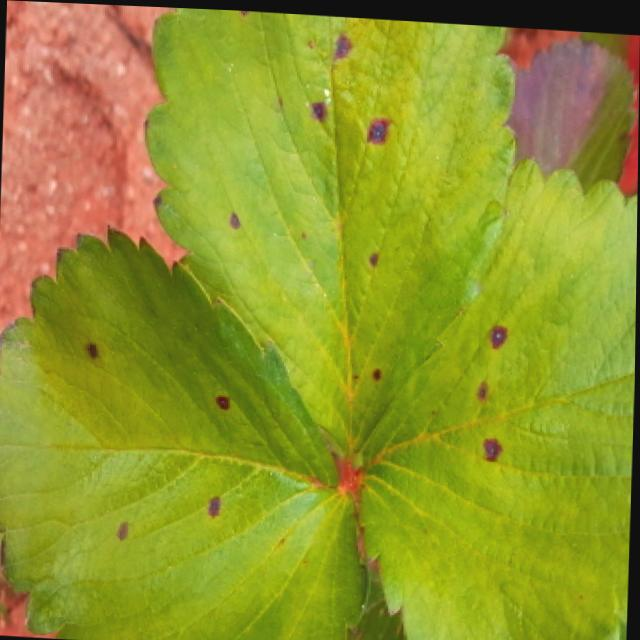Leaf Spot: (143, 6, 518, 461), (0, 221, 372, 640), (349, 147, 638, 640)
